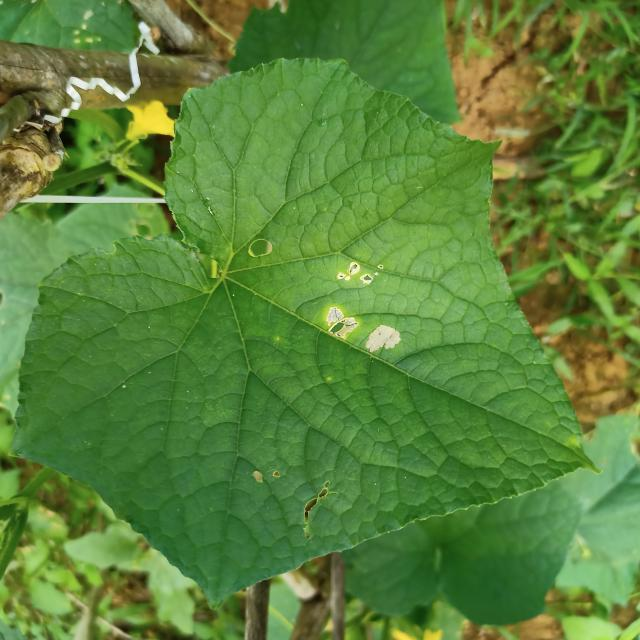disease_cucumber: (322, 258, 400, 354)
